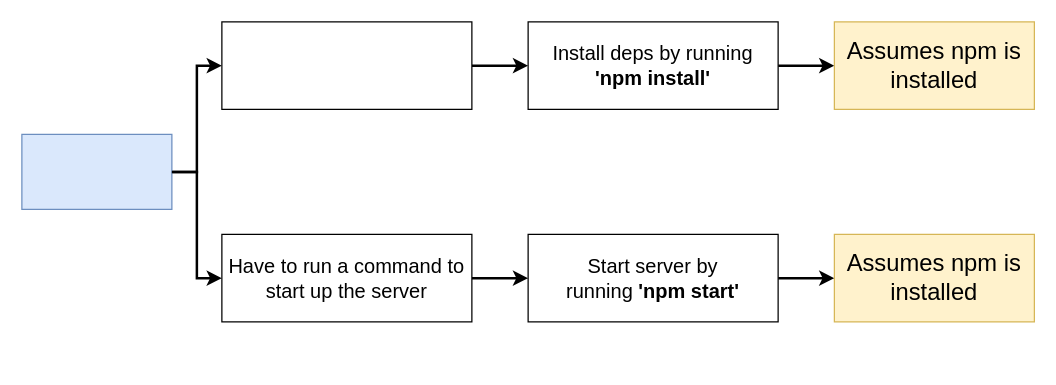
This 1056x385 diagram has some shape labels left out. The centre of each missing label's shape, as x and y in pixels:
Have to install dependencies before running the app: pixel 346 65
Node JS Apps: pixel 96 171
